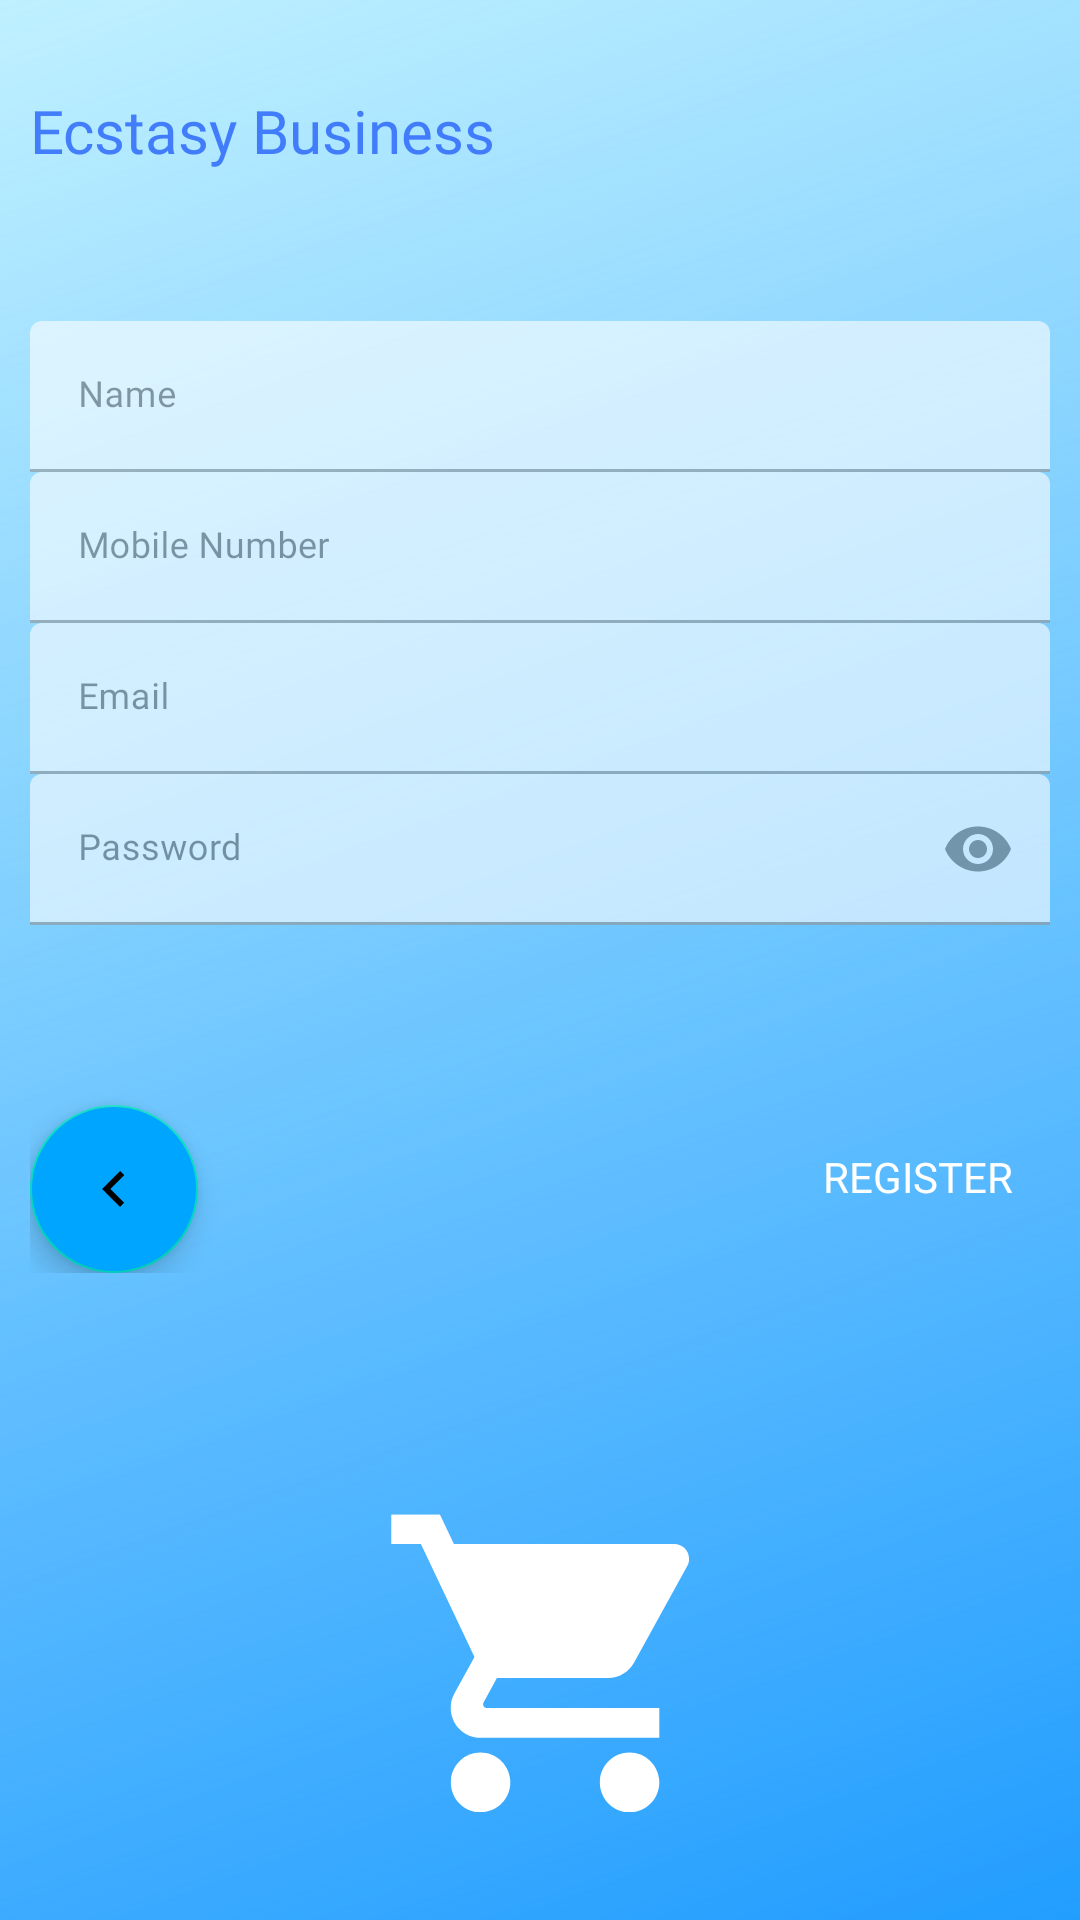

Where to tap for icons on this 1080px x 1920px app screen, as [x,y]:
previous: [114,1189]
